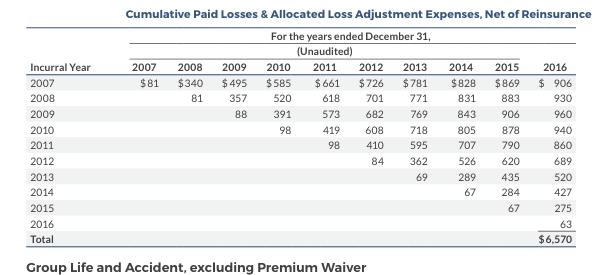table: (29, 28, 571, 244)
table column: (29, 28, 110, 244), (110, 28, 167, 244), (301, 28, 348, 244), (437, 28, 484, 244), (255, 28, 301, 244), (392, 28, 437, 244), (167, 28, 211, 244), (211, 28, 255, 244), (348, 28, 392, 244), (484, 28, 528, 244), (528, 28, 571, 244)
table column header: (29, 28, 571, 73)
table row: (29, 42, 571, 58), (29, 73, 571, 89), (29, 89, 571, 105), (29, 120, 571, 136), (29, 136, 571, 152), (29, 167, 571, 183), (29, 183, 571, 199), (29, 214, 571, 230), (29, 58, 571, 73), (29, 105, 571, 120), (29, 152, 571, 167), (29, 199, 571, 214), (29, 28, 571, 42), (29, 230, 571, 244)
table spanning cell: (110, 42, 528, 58), (110, 28, 571, 42), (29, 28, 110, 73), (528, 42, 571, 73)
